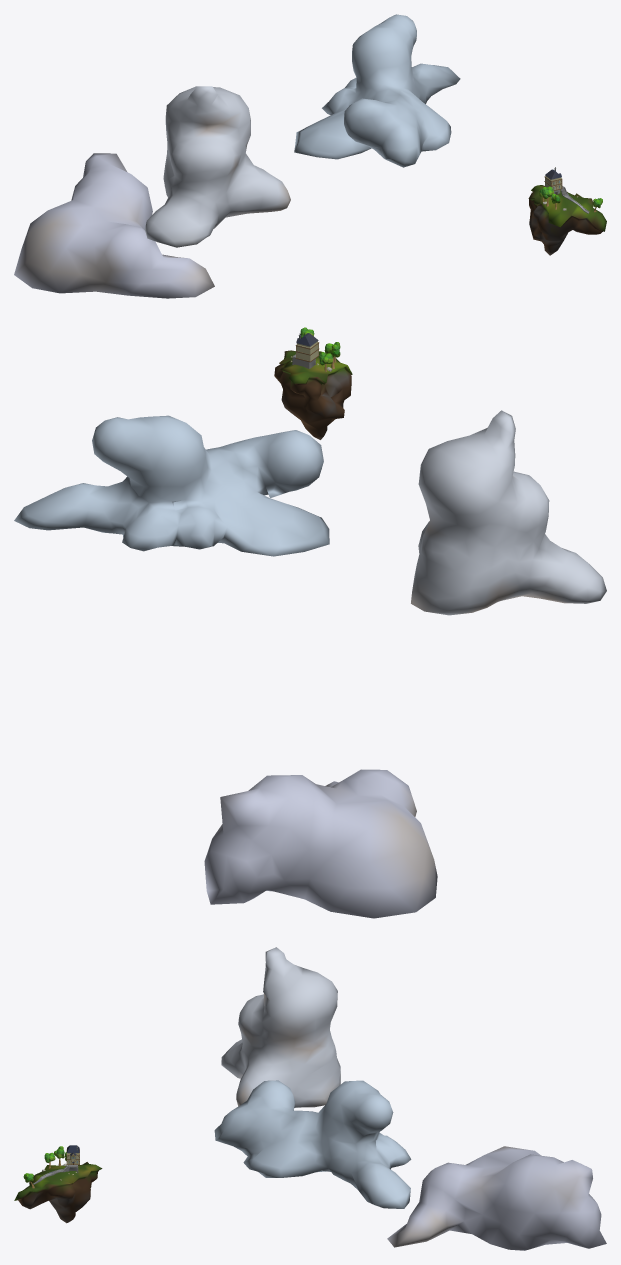
File: island.glb
3 renders of one model, top to bottom at view 1: azimuth 30°, elevation 25°; view 2: azimuth 150°, elevation 25°; view 3: azimuth 270°, elevation 25°, orthographic. The views are drawn at different scales.
Visible parts, largest first — view 1: Icosphere.012, Icosphere.004, Icosphere.013, Icosphere.022; view 2: Icosphere.013, Icosphere.012, Icosphere.004, Icosphere.022; view 3: Icosphere.012, Icosphere.013, Icosphere.004, Icosphere.022.
Boxes of the visible parts, x1,y1,x2,y2 form: Icosphere.012: [14, 153, 214, 298]; Icosphere.004: [144, 86, 290, 247]; Icosphere.013: [294, 14, 460, 167]; Icosphere.022: [528, 185, 606, 255]; Icosphere.013: [14, 415, 329, 556]; Icosphere.012: [204, 769, 437, 918]; Icosphere.004: [411, 410, 606, 615]; Icosphere.022: [274, 350, 352, 439]; Icosphere.012: [387, 1146, 606, 1250]; Icosphere.013: [214, 1080, 411, 1208]; Icosphere.004: [221, 947, 340, 1107]; Icosphere.022: [14, 1162, 102, 1223].
Bounding box in the file's own units: 126 × 90.45 × 173.
